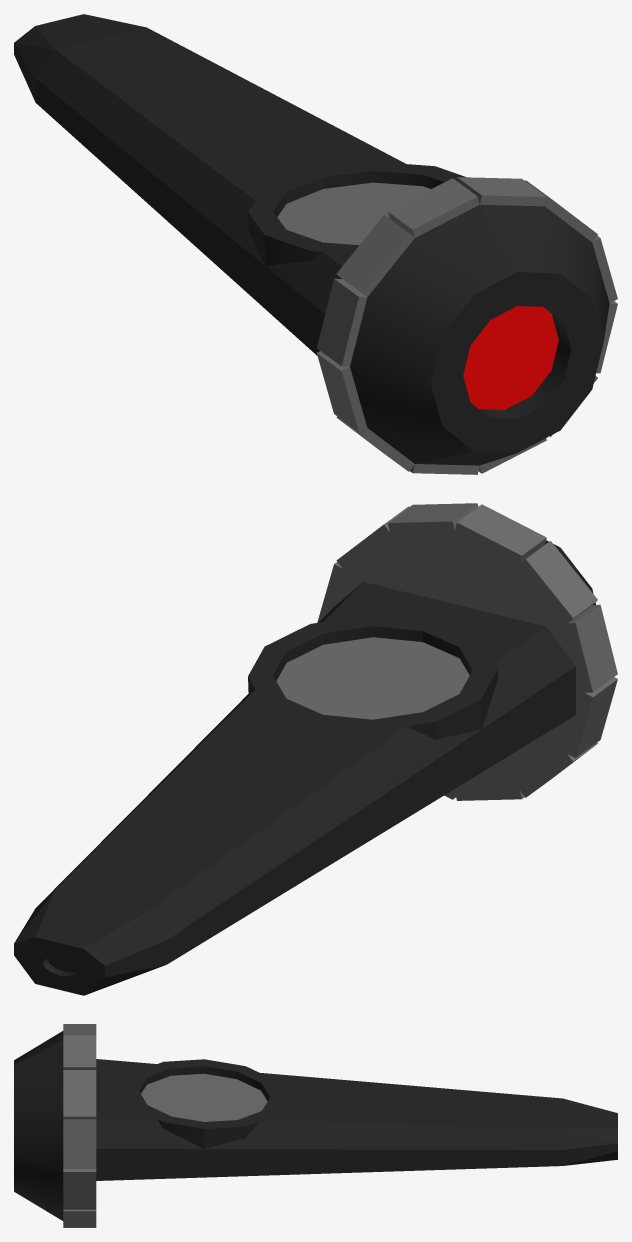
Rendered from LaserPointer.fbx.
3 views of the same model, one above another, from view 1: azimuth 30°, elevation 25°; view 2: azimuth 150°, elevation 25°; view 3: azimuth 270°, elevation 25° (orthographic). The views are drawn at different scales.
Parts seen in each view (by area): view 1: Model; view 2: Model; view 3: Model.
Boxes of the visible parts, x1,y1,x2,y2 form: Model: (14, 14, 617, 474); Model: (14, 503, 617, 995); Model: (14, 1024, 617, 1227).
Bounding box in the file's own units: 6.39 × 6.15 × 18.32.
